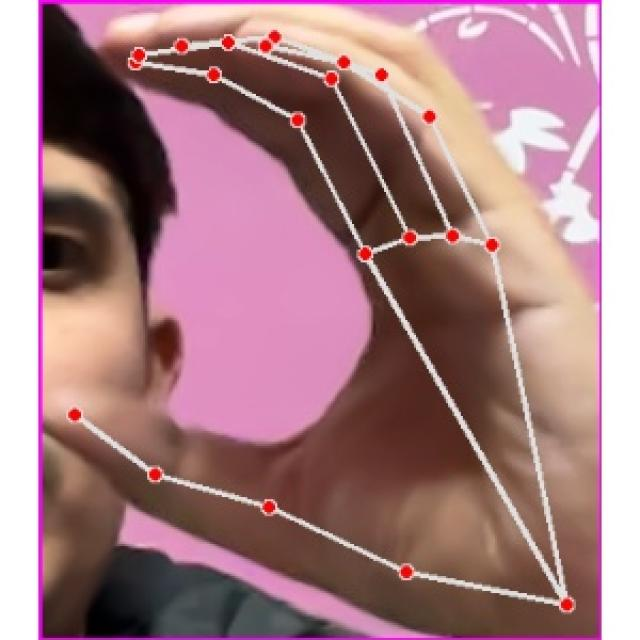C: (63, 11, 606, 636)
